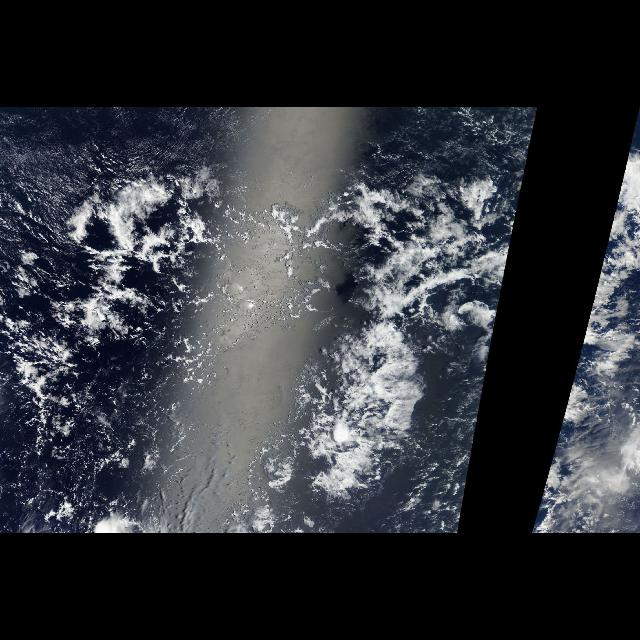Gravel: (7, 172, 221, 502)
Sugar: (5, 111, 267, 171)
